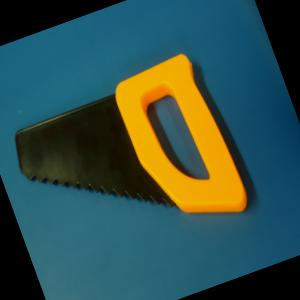serrote: (0, 45, 253, 280)
